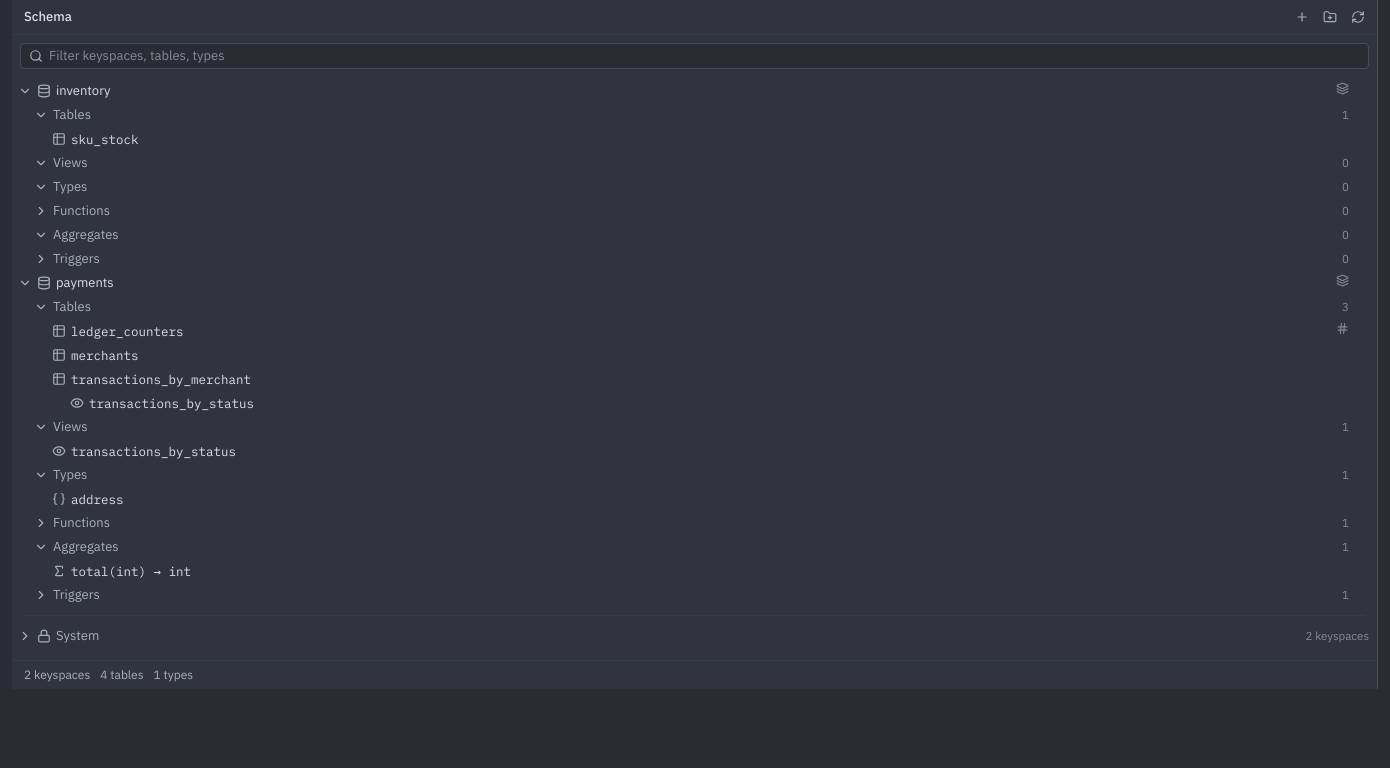
Test case: SchemaTree › expands System on click
This screenshot has width=1390, height=768.
Click the list item "System 2 keyspaces" at (78, 635), box left=12, top=624, right=1377, bottom=648
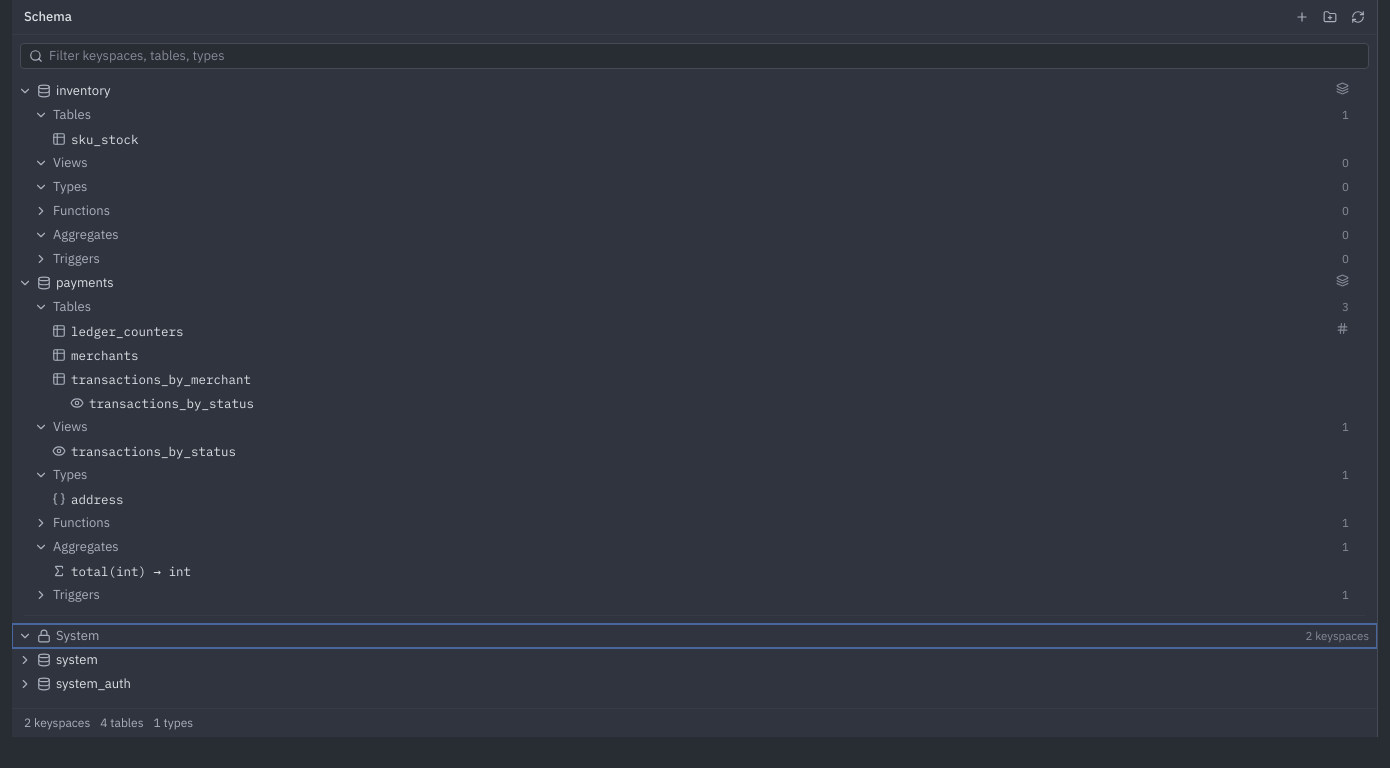
Now the text "system_auth" is shown, box left=56, top=675, right=131, bottom=693
